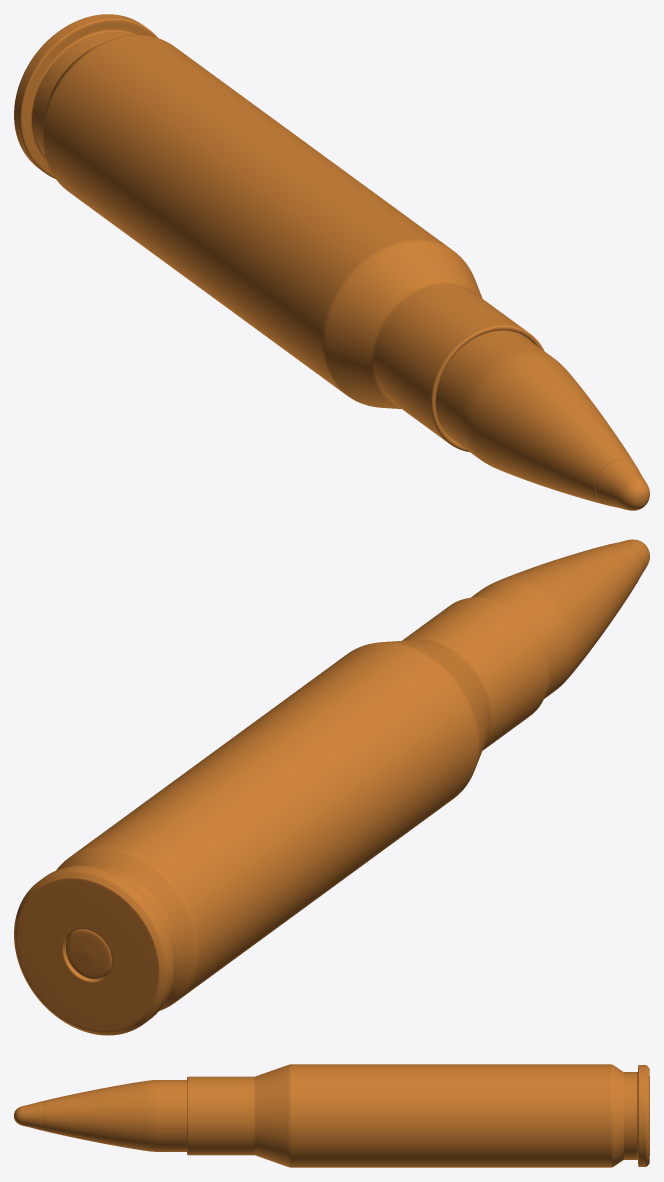
The model's file is Bullet.fbx.
3 views of the same model, one above another, from view 1: azimuth 30°, elevation 25°; view 2: azimuth 150°, elevation 25°; view 3: azimuth 270°, elevation 25° (orthographic). The views are drawn at different scales.
Visible parts, largest first — view 1: Bullet; view 2: Bullet; view 3: Bullet.
Boxes of the visible parts, bbox=[...] form: Bullet: bbox=[14, 14, 649, 510]; Bullet: bbox=[14, 539, 649, 1035]; Bullet: bbox=[14, 1064, 649, 1167].
Size of the model in its own units: 0.069 by 0.069 by 0.4254.
